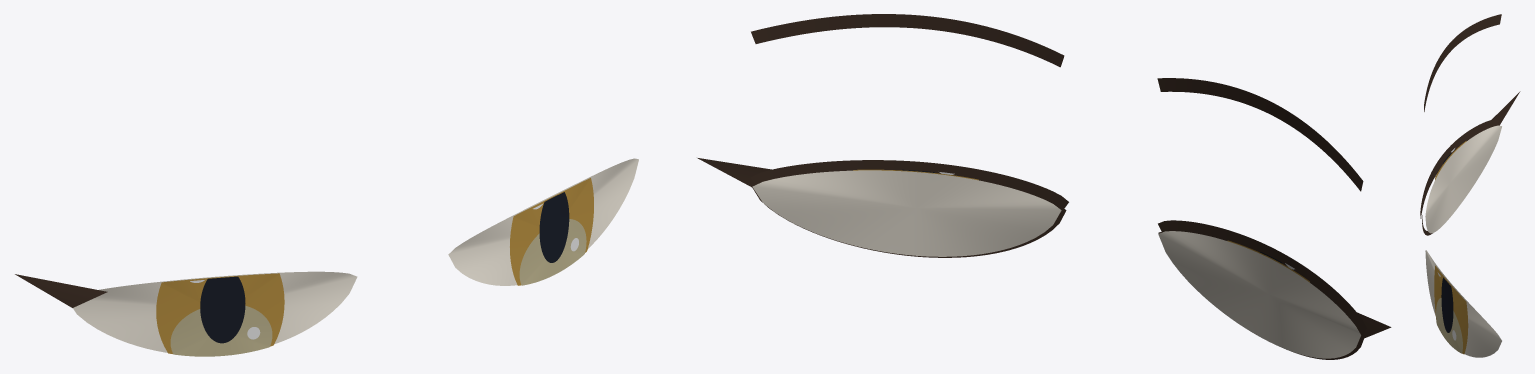
3 renders of one model, left to right at view 1: azimuth 30°, elevation 25°; view 2: azimuth 150°, elevation 25°; view 3: azimuth 270°, elevation 25°, orthographic. The views are drawn at different scales.
Parts seen in each view (by area): view 1: Eye_White_-1, Eye_White_1, Eye_Iris_-1, Eye_Iris_Light_-1, Eye_Iris_1, Eye_Pupil_-1, Eye_Iris_Light_1, Eye_Pupil_1, Eye_LashWing_-1; view 2: Eye_White_1, Eye_White_-1, Eyebrow_1, Eye_UpperLid_1, Eyebrow_-1, Eye_UpperLid_-1, Eye_LashWing_1, Eye_LowerLid_1; view 3: Eye_White_-1, Eye_White_1, Eye_Iris_1, Eyebrow_-1, Eye_UpperLid_-1, Eye_Iris_Light_1, Eye_Pupil_1, Eye_LashWing_-1.
Boxes of the visible parts, x1,y1,x2,y2 form: Eye_White_-1: (73, 271, 357, 352); Eye_White_1: (448, 158, 638, 285); Eye_Iris_-1: (156, 273, 284, 353); Eye_Iris_Light_-1: (170, 305, 272, 356); Eye_Iris_1: (510, 178, 593, 285); Eye_Pupil_-1: (200, 276, 245, 343); Eye_Iris_Light_1: (519, 219, 586, 285); Eye_Pupil_1: (539, 192, 569, 262); Eye_LashWing_-1: (15, 274, 107, 307); Eye_White_1: (752, 170, 1061, 256); Eye_White_-1: (1158, 231, 1360, 358); Eyebrow_1: (751, 14, 1064, 67); Eye_UpperLid_1: (750, 160, 1068, 208); Eyebrow_-1: (1157, 78, 1363, 191); Eye_UpperLid_-1: (1158, 220, 1366, 334); Eye_LashWing_1: (697, 158, 775, 187); Eye_LowerLid_1: (751, 184, 1066, 257); Eye_White_-1: (1425, 125, 1501, 233); Eye_White_1: (1425, 250, 1501, 357); Eye_Iris_1: (1434, 265, 1468, 354); Eyebrow_-1: (1424, 14, 1501, 111); Eye_UpperLid_-1: (1420, 119, 1499, 218); Eye_Iris_Light_1: (1436, 298, 1462, 353); Eye_Pupil_1: (1441, 277, 1453, 332); Eye_LashWing_-1: (1490, 91, 1520, 125).
Bounding box in the file's own units: 0.418 × 0.1394 × 0.0723.
